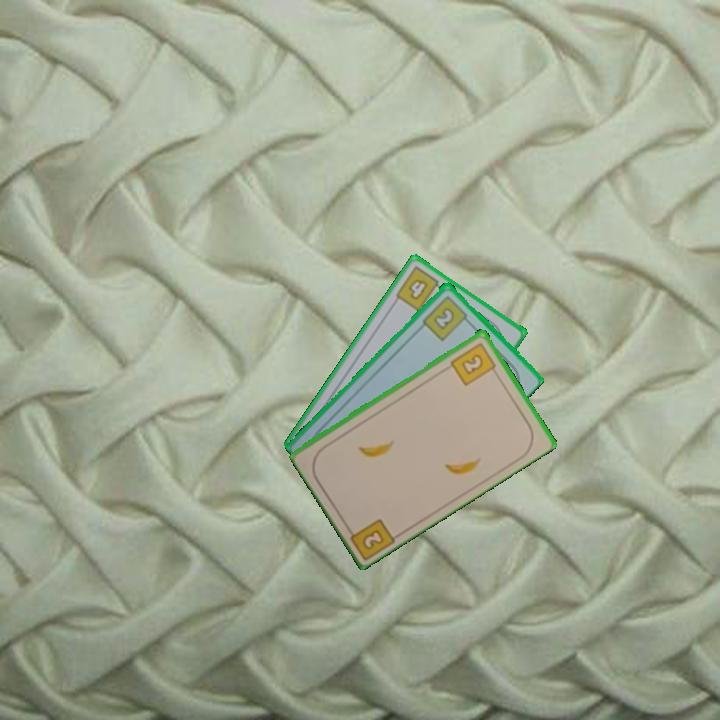2b: (419, 292, 473, 343), (342, 515, 399, 561), (447, 339, 500, 388)
4b: (392, 262, 447, 314)
